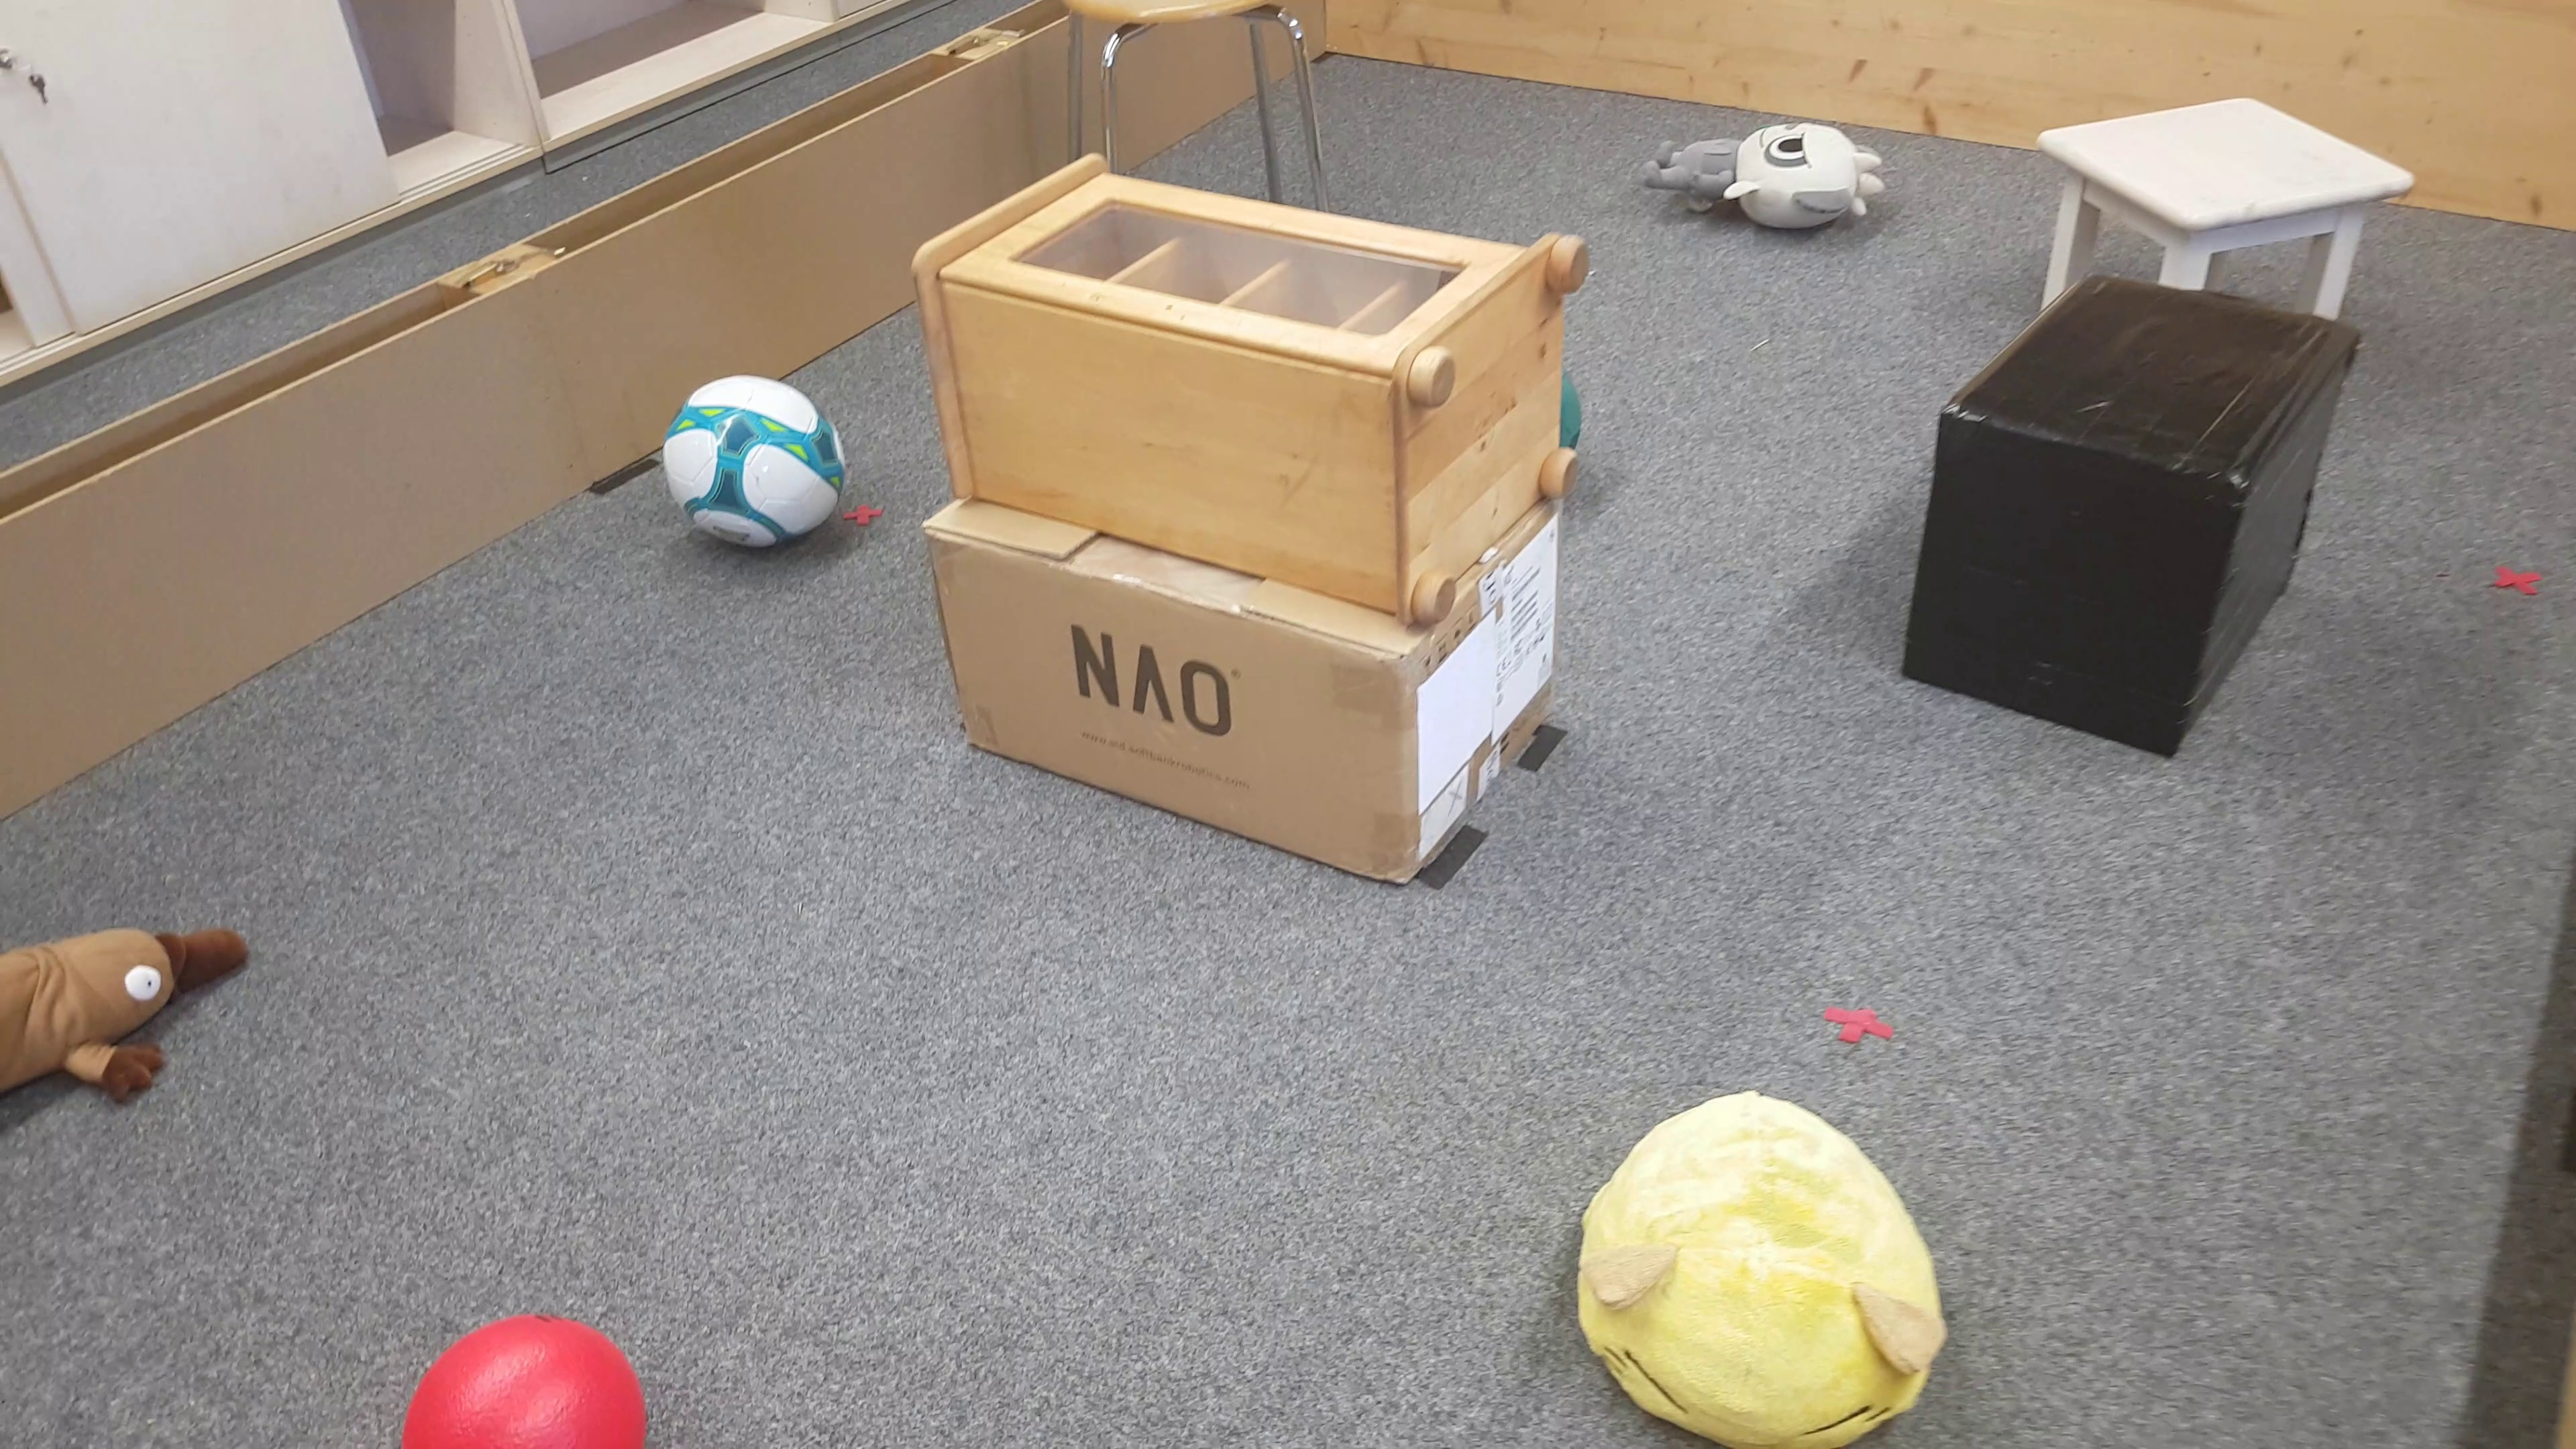grasp: (1585, 1093, 1950, 1449), (4, 918, 260, 1115), (1644, 115, 1893, 241)
kick: (667, 366, 862, 556), (398, 1315, 653, 1449)
push: (1898, 274, 2360, 766)
